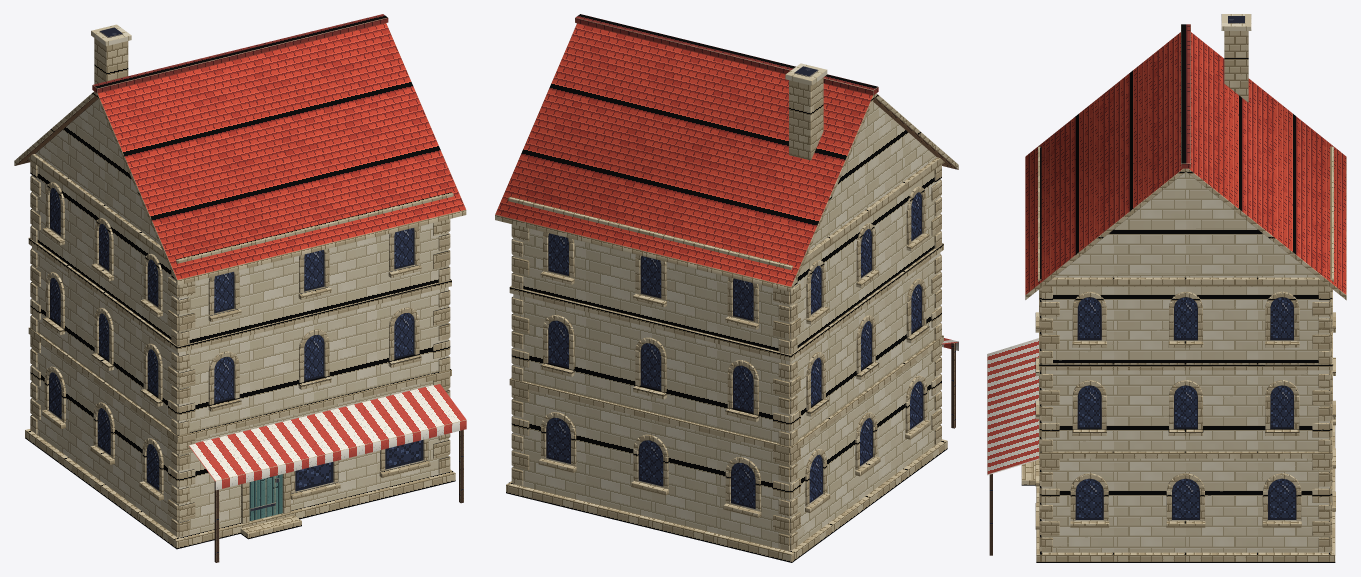
The model's file is medieval_house_4.glb.
3 views of the same model, side by side, from view 1: azimuth 30°, elevation 25°; view 2: azimuth 150°, elevation 25°; view 3: azimuth 270°, elevation 25° (orthographic). The views are drawn at different scales.
Visible parts, largest first — view 1: medieval_house_5; view 2: medieval_house_5; view 3: medieval_house_5.
Boxes of the visible parts, left/top/right/bottom form: medieval_house_5: left=14, top=14, right=466, bottom=562; medieval_house_5: left=495, top=14, right=958, bottom=562; medieval_house_5: left=987, top=14, right=1346, bottom=562.
Size of the model in its own units: 9.16 by 13.05 by 9.95.
Materials: 11 (11 with a texture image).
